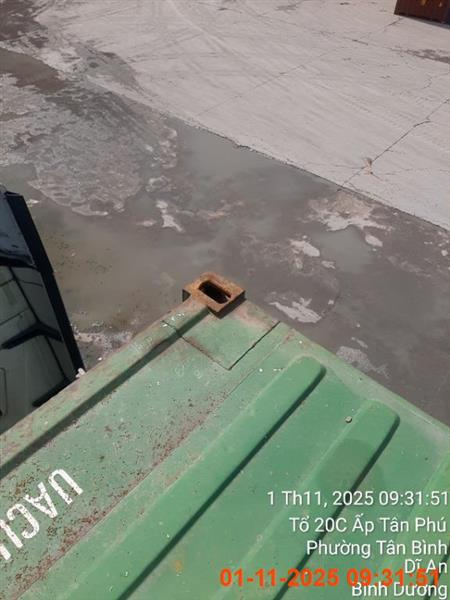broken: (1, 183, 448, 597)
